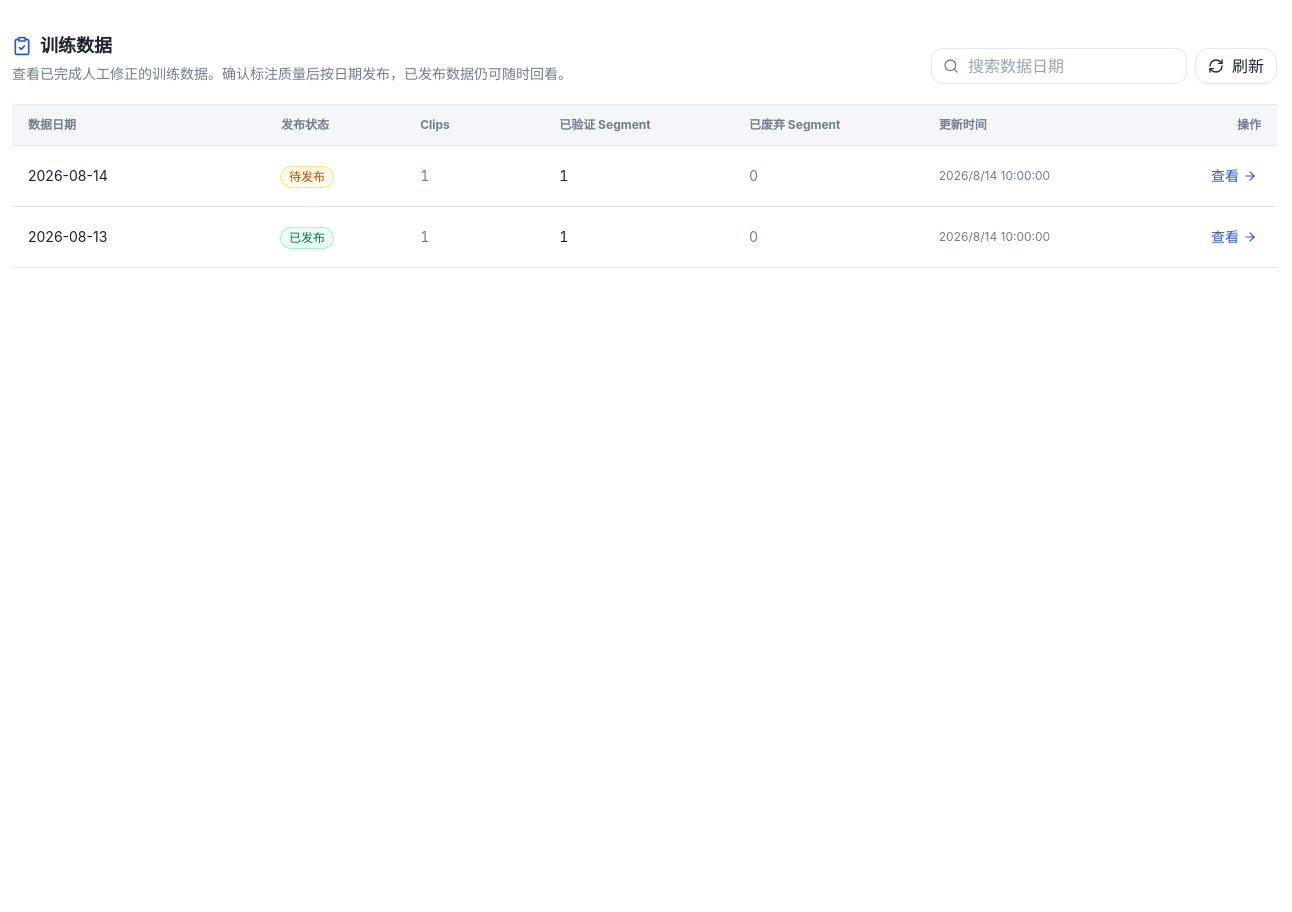
Scenario: TrainingDataReviewPanel › rejects non-fix evidence instead of showing the original trajectory
Click the button "查看" in the row of "待发布" at [1234, 176], box [1207,162,1261,190]
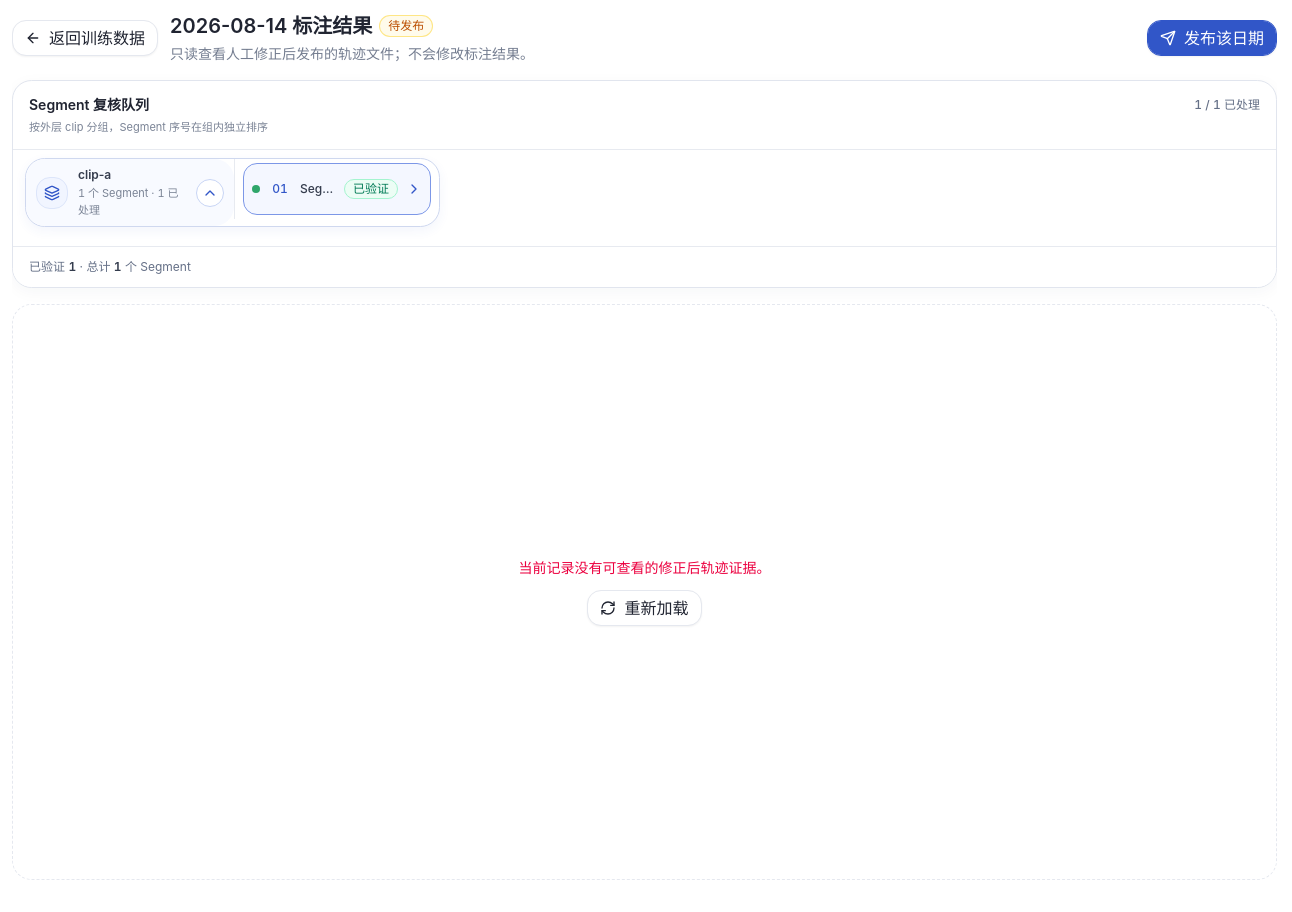
Check: the message shows "当前记录没有可查看的修正后轨迹证据", box [518,559,770,576]
